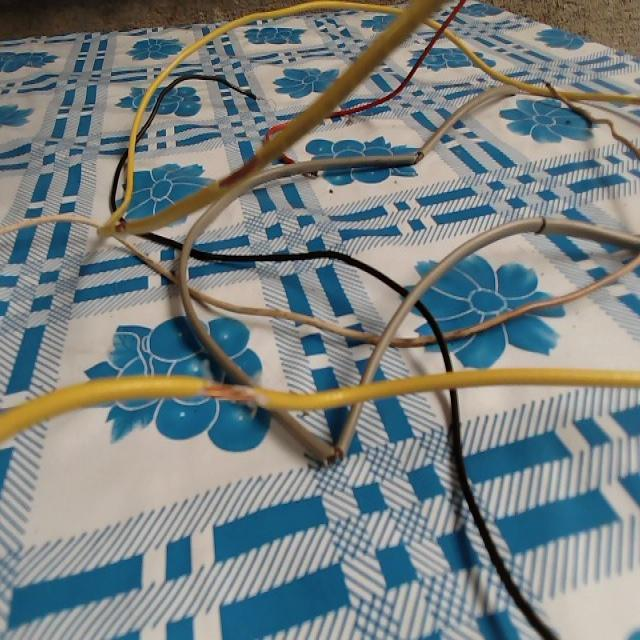-: (193, 374, 272, 410), (214, 151, 267, 189), (318, 440, 351, 472), (529, 212, 552, 237), (406, 144, 429, 169), (111, 215, 131, 241), (540, 77, 555, 92)
